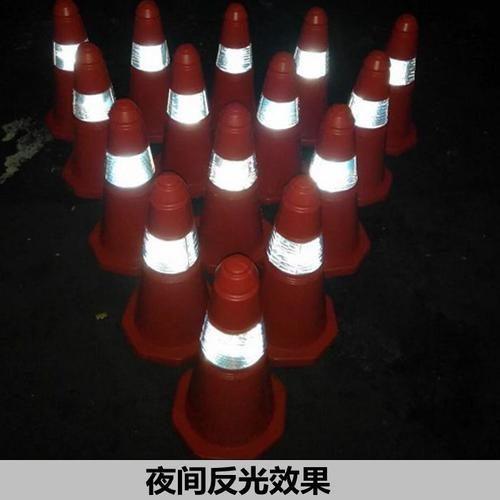cone_barrel: (176, 256, 281, 452), (250, 168, 334, 370), (128, 172, 206, 355), (303, 89, 368, 277), (93, 97, 154, 270), (202, 102, 264, 267), (157, 49, 214, 206), (62, 40, 115, 194), (344, 45, 393, 205), (122, 4, 173, 133), (206, 5, 255, 138), (256, 53, 304, 182), (380, 13, 422, 157), (44, 1, 82, 139), (292, 3, 334, 107)
